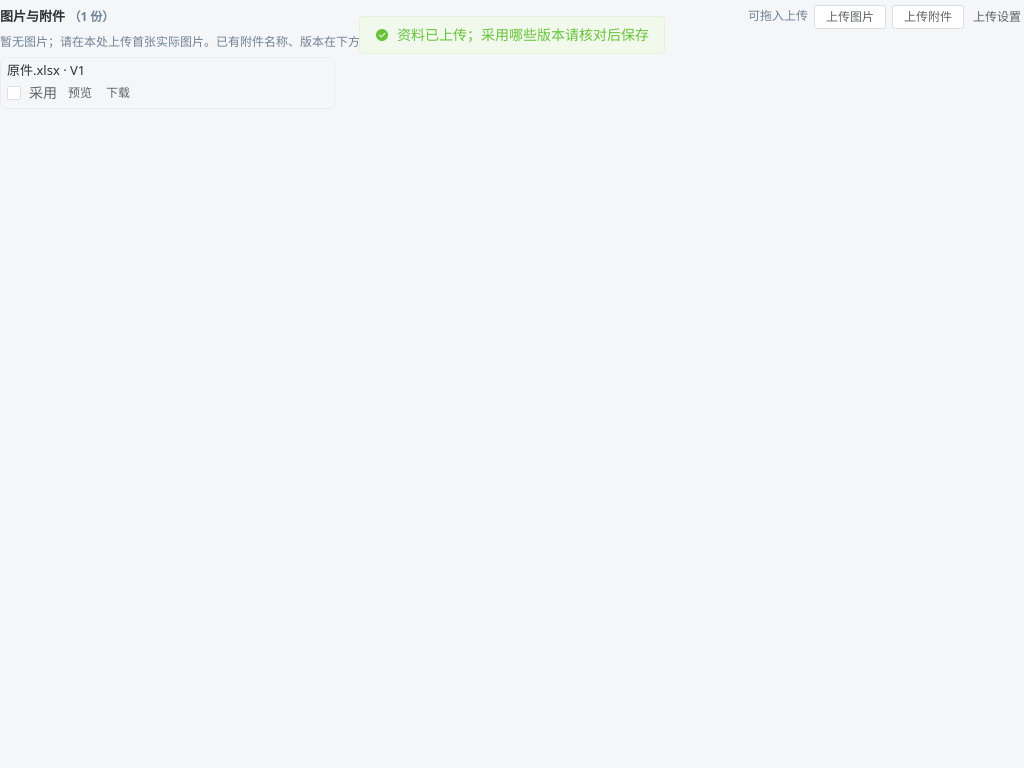
Test: full-size preview feedback › keeps metadata permission errors as errors and never falls back to preview or download
Click the button "预览". click: click(80, 93)
box: top-left (65, 84), bottom-right (95, 102)
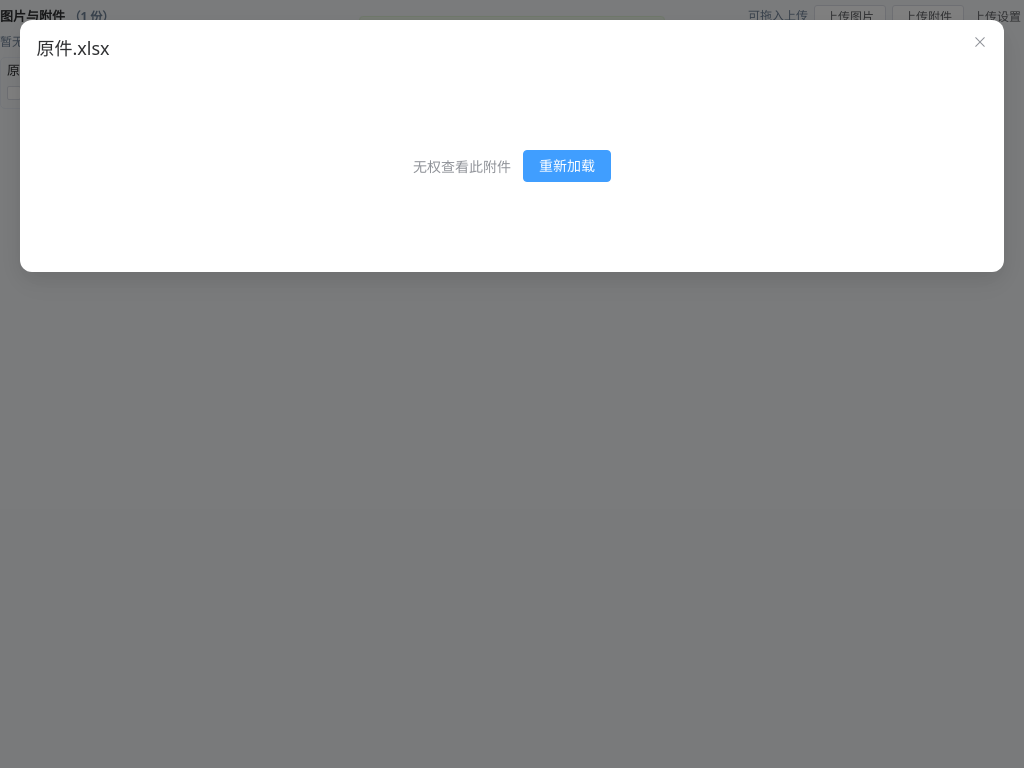
Expected: the text "下载原文件" is not shown
Now the text "无权查看此附件" is shown, box top-left (413, 156), bottom-right (511, 176)
Click the button "重新加载". click: click(567, 166)
box: top-left (523, 150), bottom-right (611, 182)
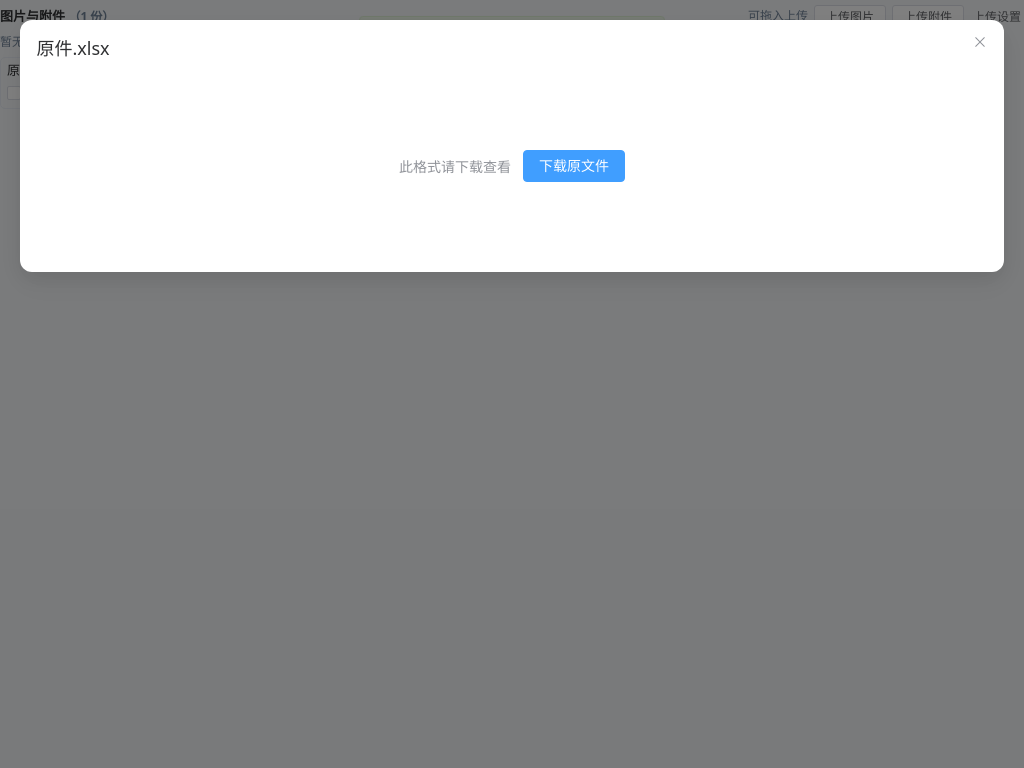
Now the text "此格式请下载查看" is shown, box top-left (399, 156), bottom-right (511, 176)
